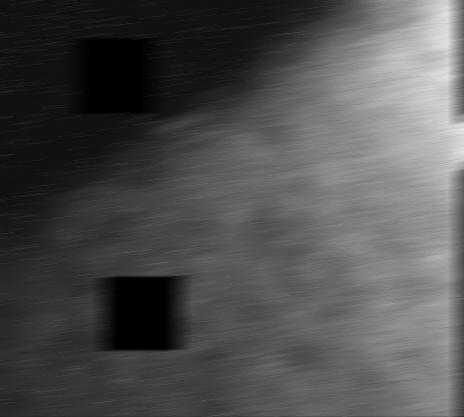Airbag: (0, 0, 464, 417), (458, 32, 464, 417)
